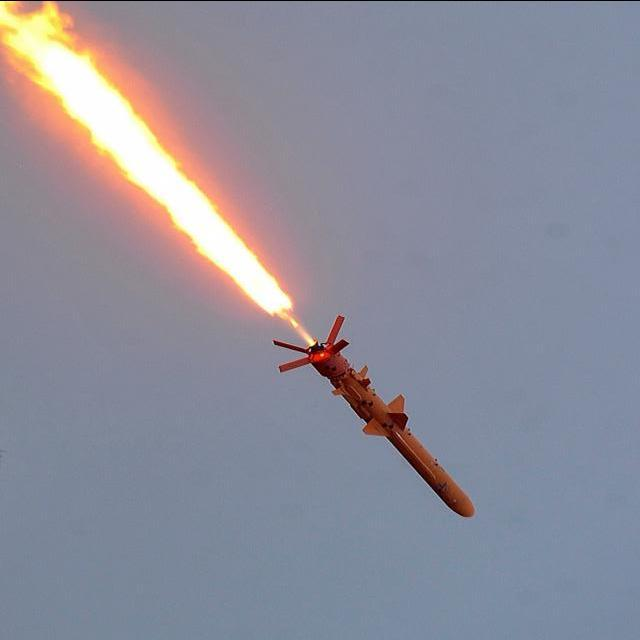Missile: (264, 306, 520, 519)
